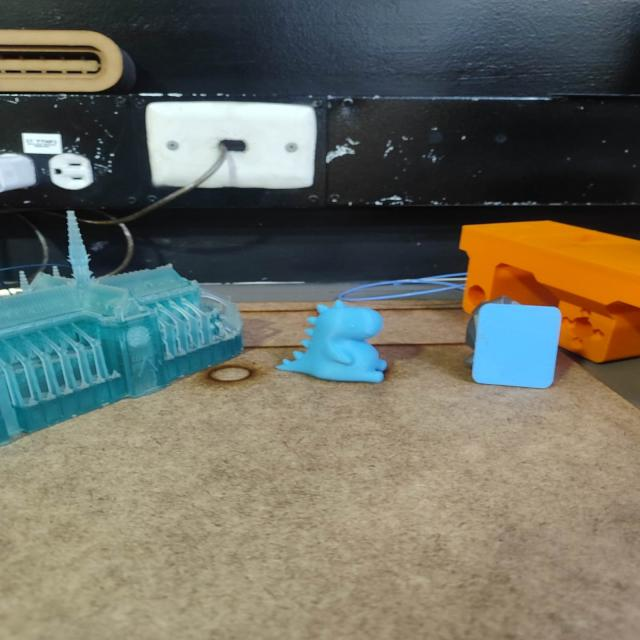DINO: (267, 290, 396, 397)
